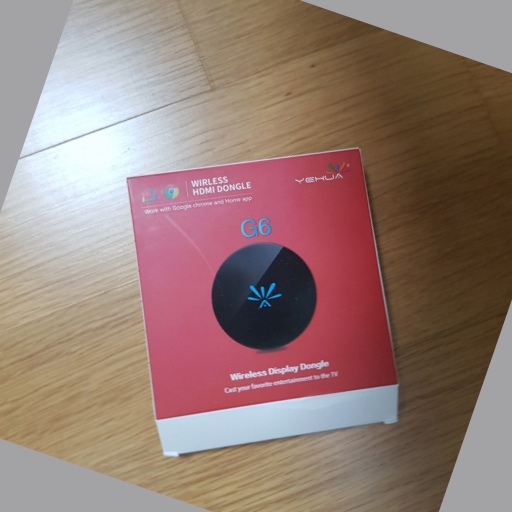Paper_0: (122, 147, 408, 461)
